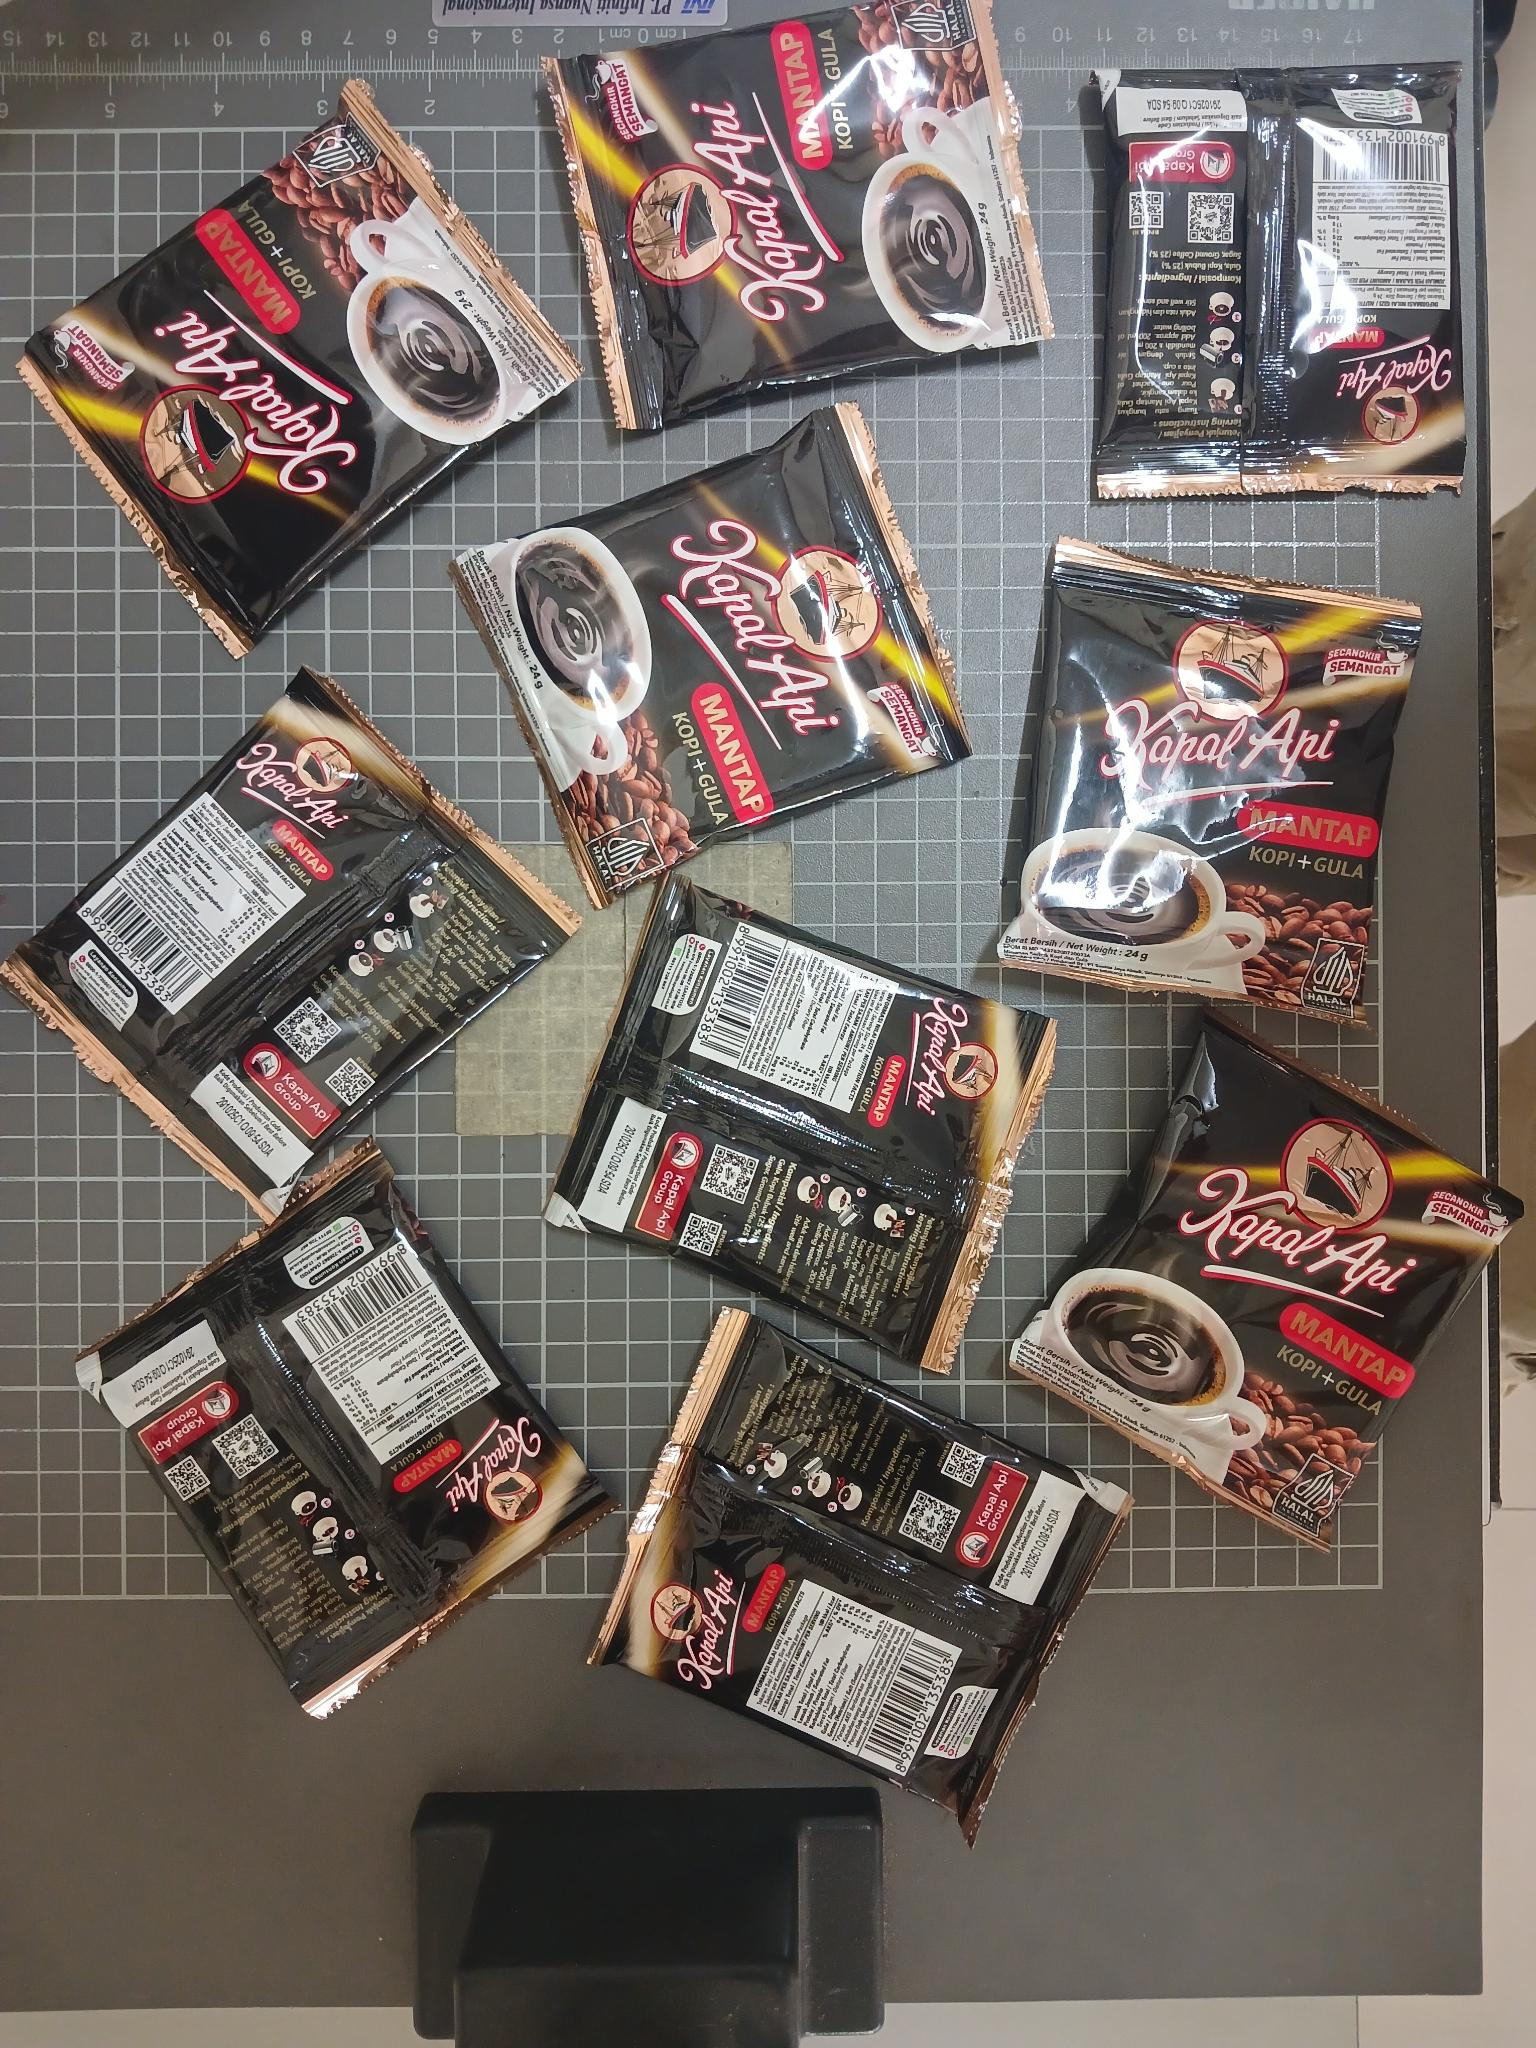back: (0, 658, 589, 1232), (65, 1134, 621, 1730), (578, 1305, 1141, 1845), (534, 866, 1071, 1384), (1089, 60, 1468, 505)
front: (6, 77, 591, 661), (1005, 1001, 1530, 1556), (445, 393, 984, 914), (537, 0, 1055, 435), (995, 532, 1425, 1037)
